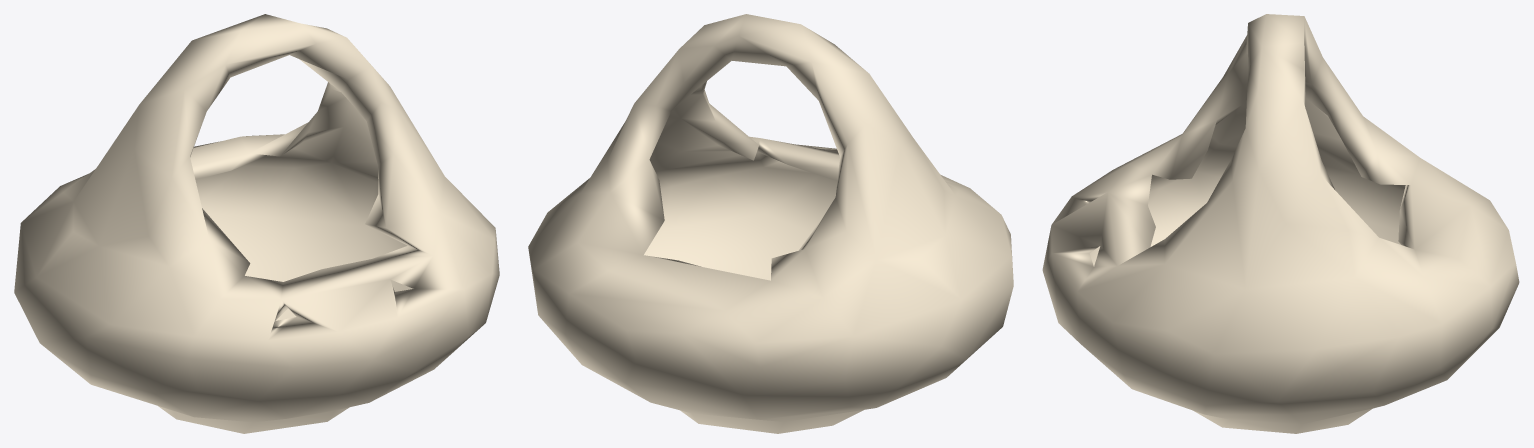
3 views of the same model, side by side, from view 1: azimuth 30°, elevation 25°; view 2: azimuth 150°, elevation 25°; view 3: azimuth 270°, elevation 25° (orthographic).
Parts seen in each view (by area): view 1: 고리형 조형 소품; view 2: 고리형 조형 소품; view 3: 고리형 조형 소품.
Part boxes in pixels (x1,y1,x2,y2): 고리형 조형 소품: [14, 14, 499, 433]; 고리형 조형 소품: [528, 14, 1013, 433]; 고리형 조형 소품: [1042, 14, 1519, 433].
Size of the model in its own units: 37.45 by 32.06 by 37.77.
